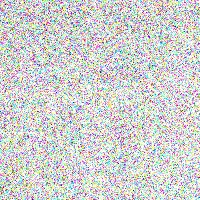pitted_surface: (0, 1, 199, 199)
